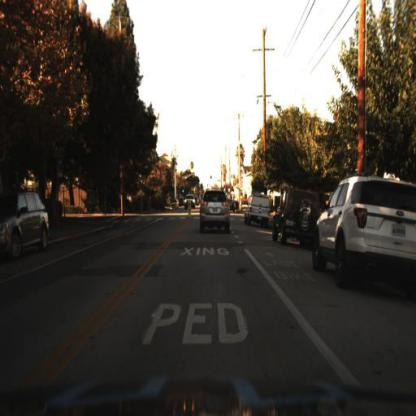car: (312, 169, 416, 289), (1, 192, 51, 262), (272, 187, 323, 246), (199, 185, 233, 236), (244, 191, 278, 229), (183, 191, 197, 214)
